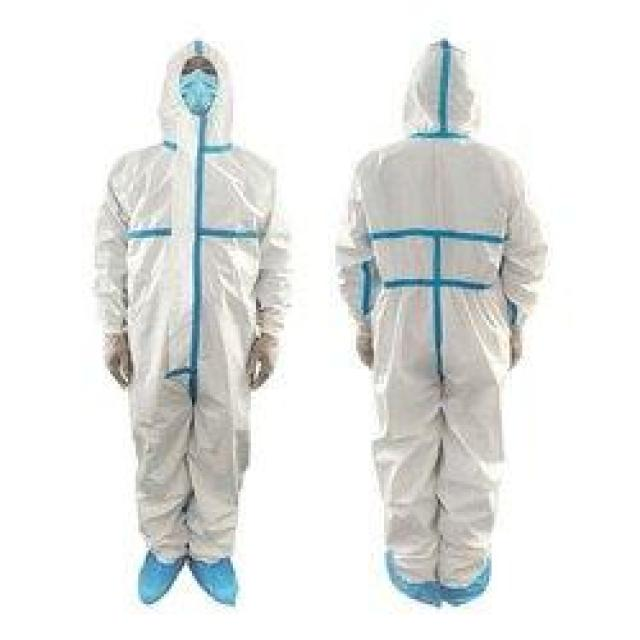Coverall: (331, 33, 551, 612), (90, 36, 300, 612)
Mask: (177, 69, 218, 110)
